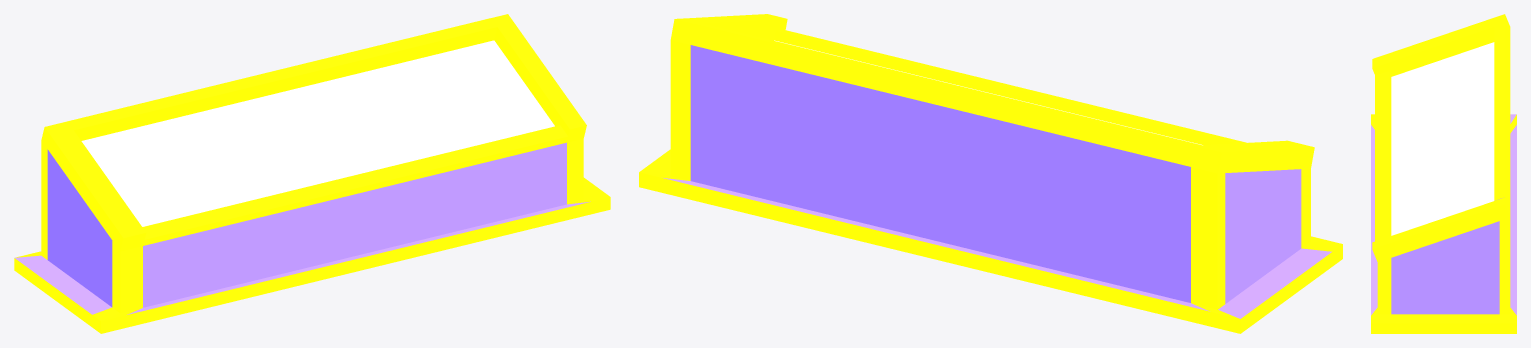
File: Showcase.fbx
The picture shows the model from 3 angles, left to right: view 1: azimuth 30°, elevation 25°; view 2: azimuth 150°, elevation 25°; view 3: azimuth 270°, elevation 25°; orthographic projection. The views are drawn at different scales.
Parts seen in each view (by area): view 1: Showcase; view 2: Showcase; view 3: Showcase.
Boxes of the visible parts, x1,y1,x2,y2 form: Showcase: [14, 14, 610, 333]; Showcase: [639, 14, 1342, 333]; Showcase: [1371, 14, 1516, 333].
Bounding box in the file's own units: 841 × 226 × 248.
